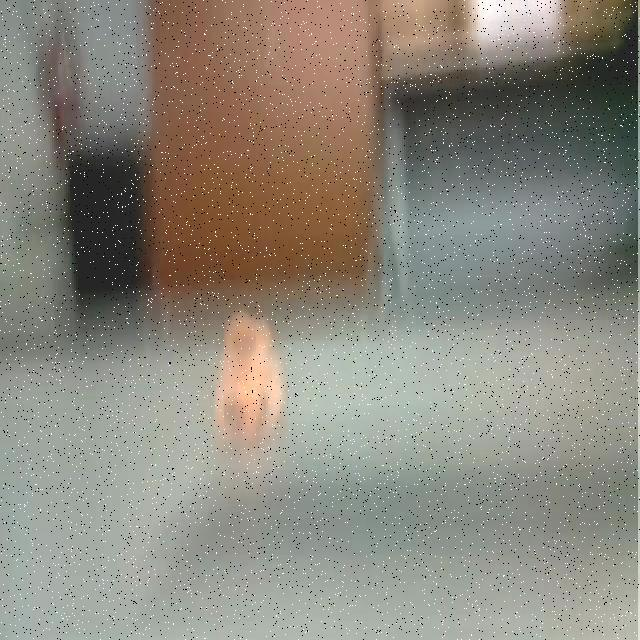ping-pong-ball: (210, 314, 296, 434)
